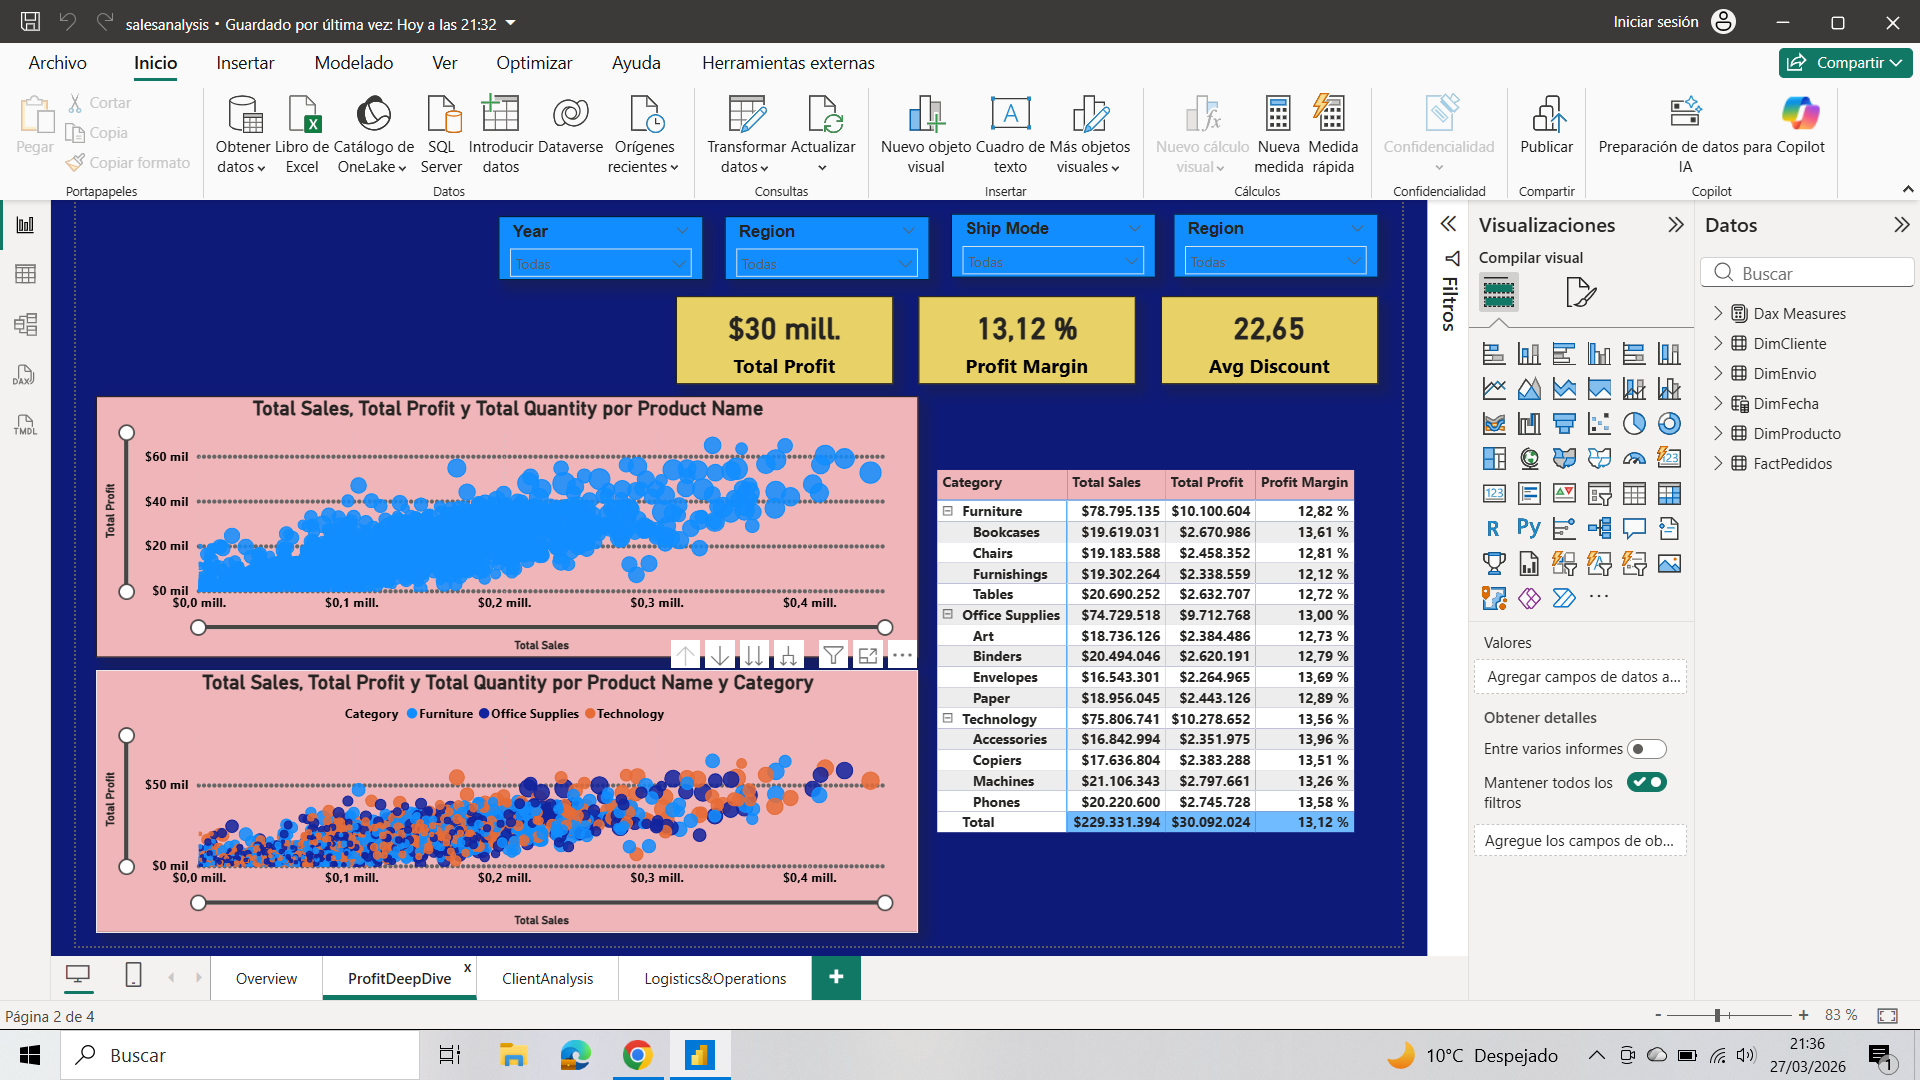

What the dashboard file says about the page in this screenshot:
{"tool":"powerbi","page":{"name":"ProfitDeepDive","canvas":[1280,720],"ordinal":1},"visuals":[{"type":"slicer","fields":{"Values":["DimFecha.Year"]},"box":[407.5,15.1,197.6,61.7],"z":0},{"type":"slicer","fields":{"Values":["DimCliente.Region"]},"box":[625.7,15.1,197.6,61.7],"z":1000},{"type":"slicer","fields":{"Values":["DimEnvio.Ship Mode"]},"box":[843.9,13.7,197.6,61.7],"z":2000},{"type":"slicer","fields":{"Values":["DimCliente.Region"]},"box":[1059.4,13.7,197.6,61.7],"z":3000},{"type":"card","fields":{"Values":["Dax Measures.Total Profit"]},"box":[579.1,93.3,209.9,85.1],"z":4000},{"type":"card","fields":{"Values":["Dax Measures.Profit Margin"]},"box":[813.7,93.3,209.9,85.1],"z":5000},{"type":"card","fields":{"Values":["Dax Measures.Avg Discount"]},"box":[1047,93.3,209.9,85.1],"z":6000},{"type":"pivotTable","fields":{"Values":["Dax Measures.Total Sales","Dax Measures.Total Profit","Dax Measures.Profit Margin"],"Rows":["DimProducto.Category","DimProducto.Sub-Category"]},"box":[826.1,255.2,441.9,373.2],"z":7000},{"type":"scatterChart","fields":{"X":["Dax Measures.Total Sales"],"Y":["Dax Measures.Total Profit"],"Size":["Dax Measures.Total Quantity"],"Category":["DimProducto.Product Name"]},"box":[19.3,189.4,793.8,252.1],"z":8000},{"type":"scatterChart","fields":{"X":["Dax Measures.Total Sales"],"Y":["Dax Measures.Total Profit"],"Size":["Dax Measures.Total Quantity"],"Category":["DimProducto.Product Name","DimProducto.Category"],"Series":["DimProducto.Category"]},"box":[19.3,453.6,793.8,253.4],"z":9000}]}

Visuals, with their boxes on the page's 1280x720 design canvas (x1, y1, x2, y2). These are canvas units, not pixel positions in the 1920x1080 screenshot, which may show the page scaled, cropped or inside an application window:
slicer - DimFecha.Year: bbox=[408, 15, 605, 77]
slicer - DimCliente.Region: bbox=[626, 15, 823, 77]
slicer - DimEnvio.Ship Mode: bbox=[844, 14, 1042, 75]
slicer - DimCliente.Region: bbox=[1059, 14, 1257, 75]
card - Dax Measures.Total Profit: bbox=[579, 93, 789, 178]
card - Dax Measures.Profit Margin: bbox=[814, 93, 1024, 178]
card - Dax Measures.Avg Discount: bbox=[1047, 93, 1257, 178]
pivotTable - Dax Measures.Total Sales x Dax Measures.Total Profit: bbox=[826, 255, 1268, 628]
scatterChart - Dax Measures.Total Sales x Dax Measures.Total Profit: bbox=[19, 189, 813, 442]
scatterChart - Dax Measures.Total Sales x Dax Measures.Total Profit: bbox=[19, 454, 813, 707]
